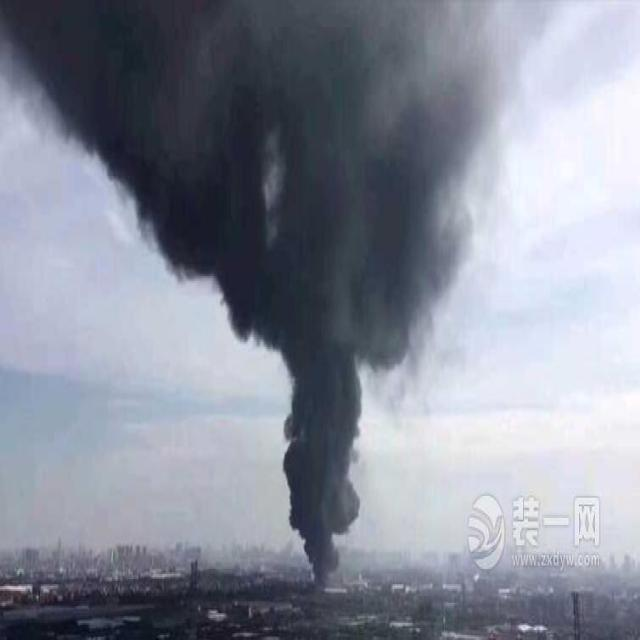Smoke: (2, 0, 467, 583)
